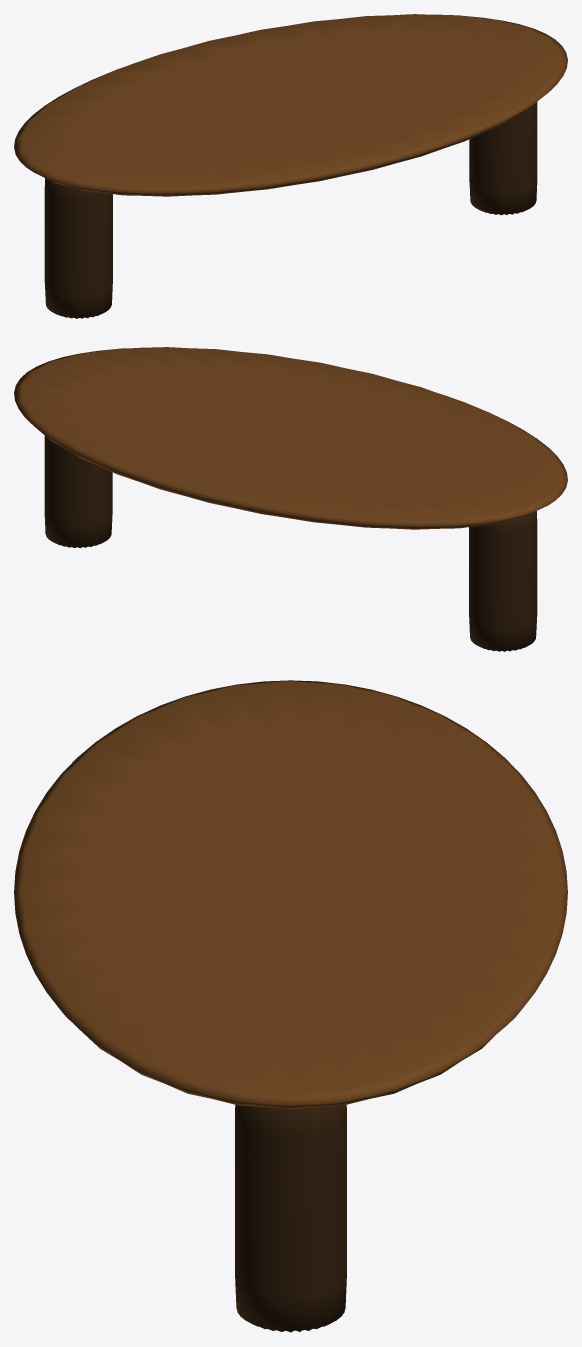
File: Table.fbx
The picture shows the model from 3 angles, top to bottom: view 1: azimuth 30°, elevation 25°; view 2: azimuth 150°, elevation 25°; view 3: azimuth 270°, elevation 25°; orthographic projection. The views are drawn at different scales.
Visible parts, largest first — view 1: Cylinder, Cylinder.001, Cylinder.002; view 2: Cylinder, Cylinder.001, Cylinder.002; view 3: Cylinder, Cylinder.002.
Part boxes in pixels (x1,y1,x2,y2): Cylinder: [14, 14, 567, 196]; Cylinder.001: [44, 178, 112, 318]; Cylinder.002: [469, 102, 537, 215]; Cylinder: [14, 347, 567, 529]; Cylinder.001: [469, 511, 537, 651]; Cylinder.002: [44, 435, 112, 548]; Cylinder: [14, 680, 567, 1109]; Cylinder.002: [235, 1105, 346, 1332].
Size of the model in its own units: 1779 by 499 by 982.
